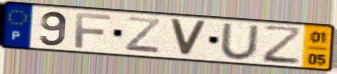9: (39, 10, 67, 47)
F: (73, 12, 113, 50)
U: (219, 22, 261, 61)
V: (168, 17, 209, 59)
Z: (262, 25, 304, 66), (123, 15, 162, 55)
